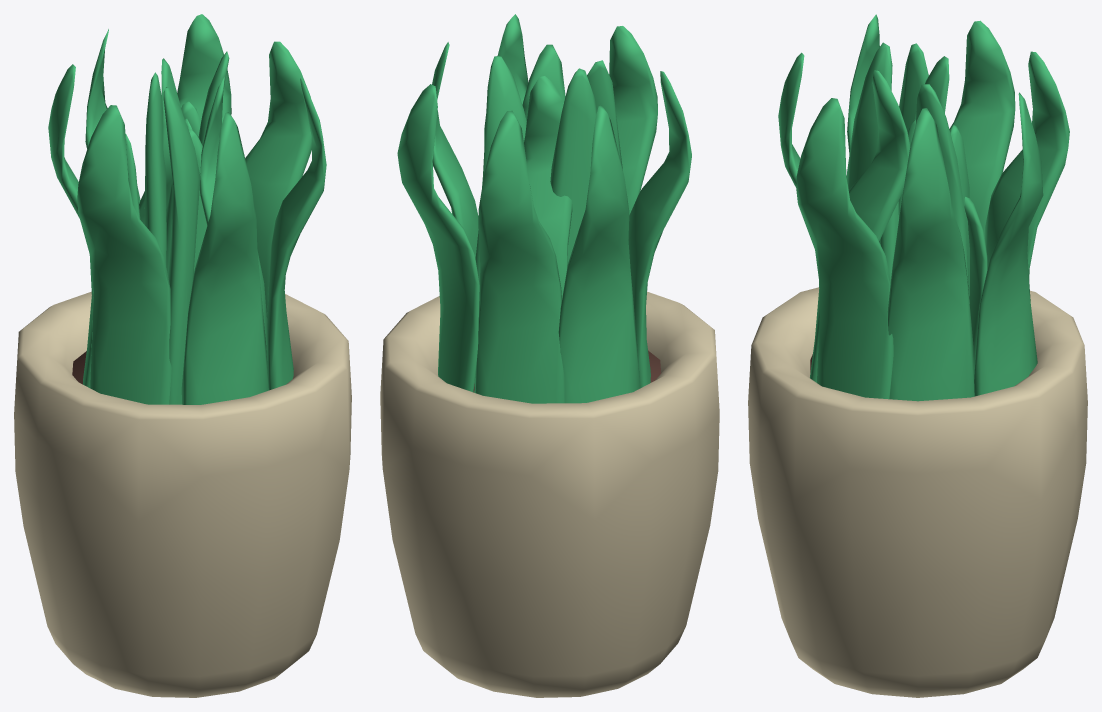
The model's file is Vaso.fbx.
3 views of the same model, side by side, from view 1: azimuth 30°, elevation 25°; view 2: azimuth 150°, elevation 25°; view 3: azimuth 270°, elevation 25° (orthographic).
Visible parts, largest first — view 1: Vaso; view 2: Vaso; view 3: Vaso.
Boxes of the visible parts, box(x1,y1,x2,y2) form: Vaso: box(14, 14, 351, 697); Vaso: box(380, 14, 719, 697); Vaso: box(748, 14, 1087, 697).
Bounding box in the file's own units: 43.42 × 85.9 × 43.42.
1 material, 1 textured.
